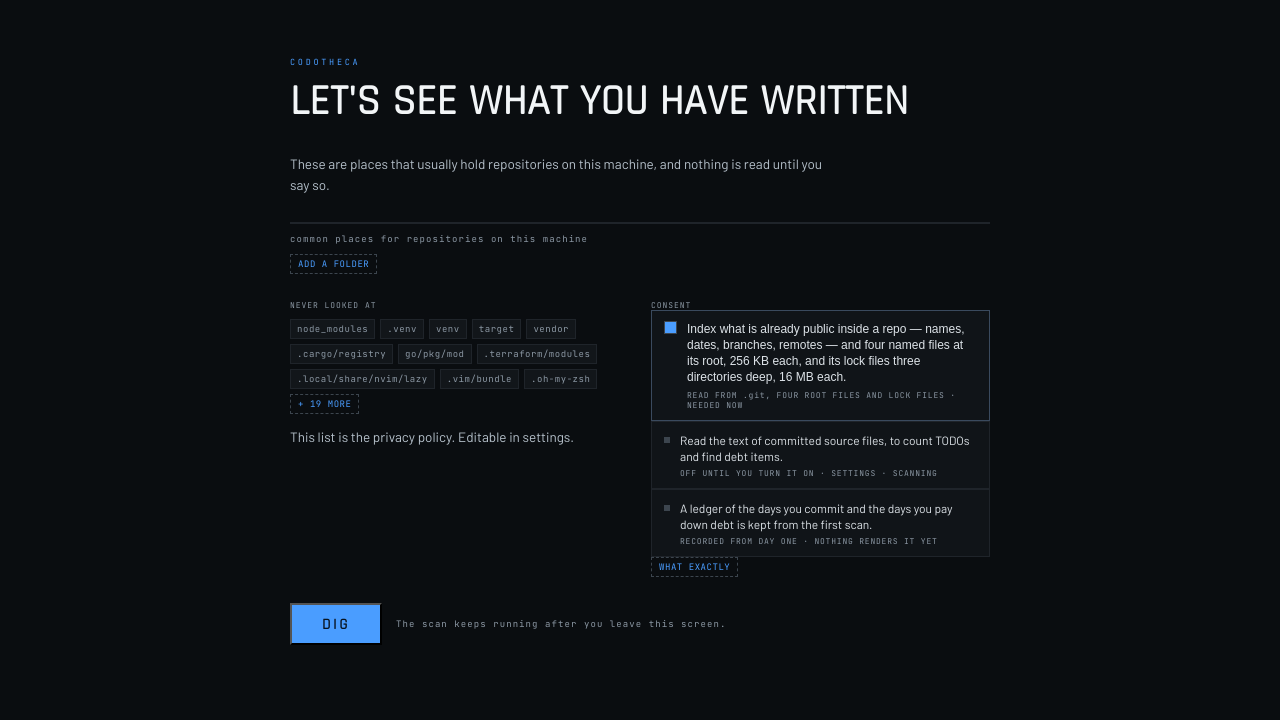
Test: crossing a milestone previews a figure from the reveal own basis
The image size is (1280, 720).
Expected: the heading "LET'S SEE WHAT YOU HAVE WRITTEN" is shown, [290, 80, 990, 124]
Click the button "DIG".
click(336, 624)  # box [290, 603, 382, 645]
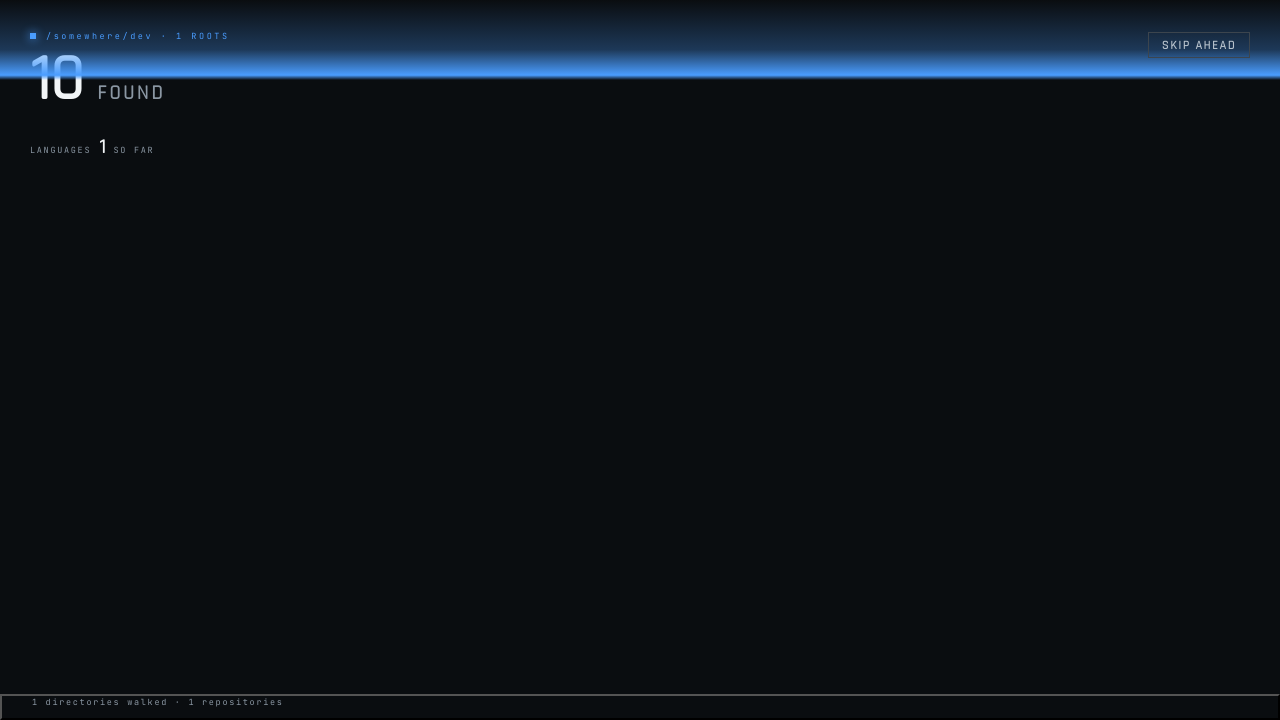
Expected: the button "SKIP AHEAD" is shown, [1148, 32, 1250, 58]
Expected: the text "SO FAR" is shown, [114, 144, 154, 156]
